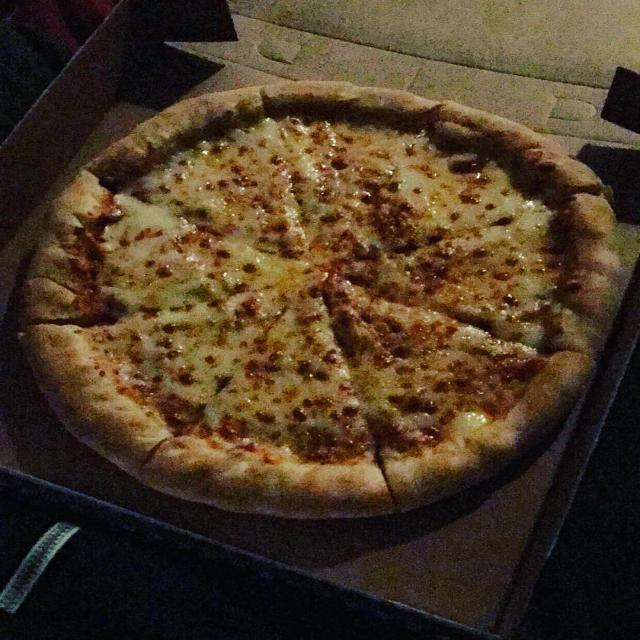pizza: (17, 82, 626, 522)
